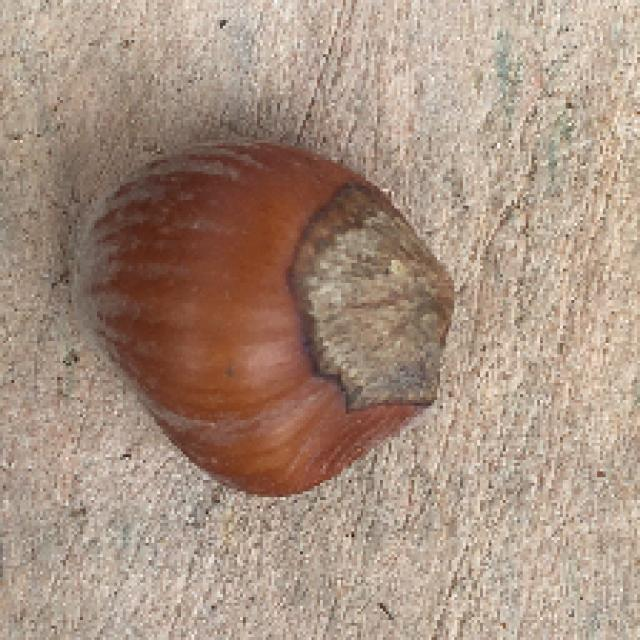qualityHazelnut: (57, 133, 455, 500)
